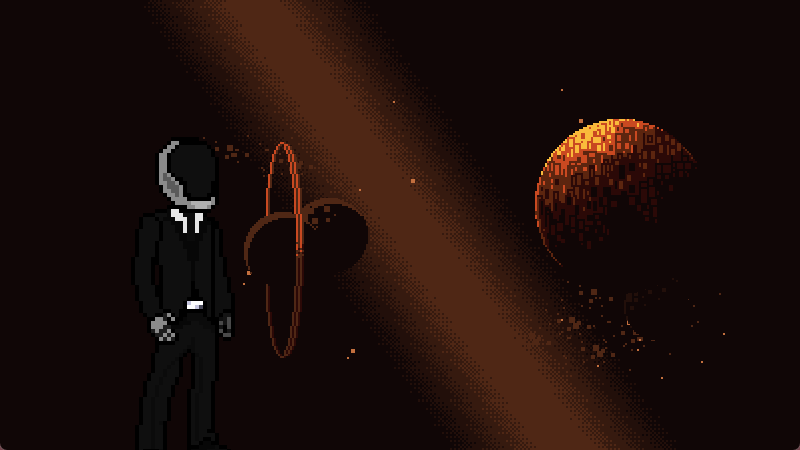next_screen: (17, 19, 779, 428)
